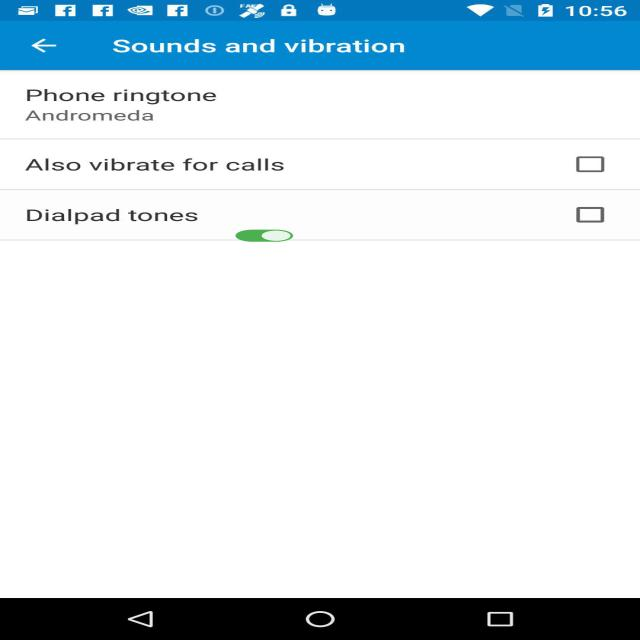social proof: (233, 225, 296, 247)
